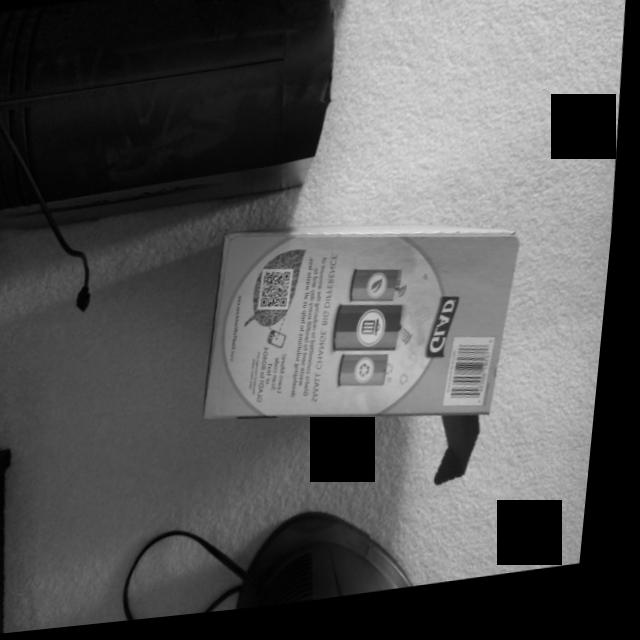QR_CODE: (257, 256, 309, 327)
